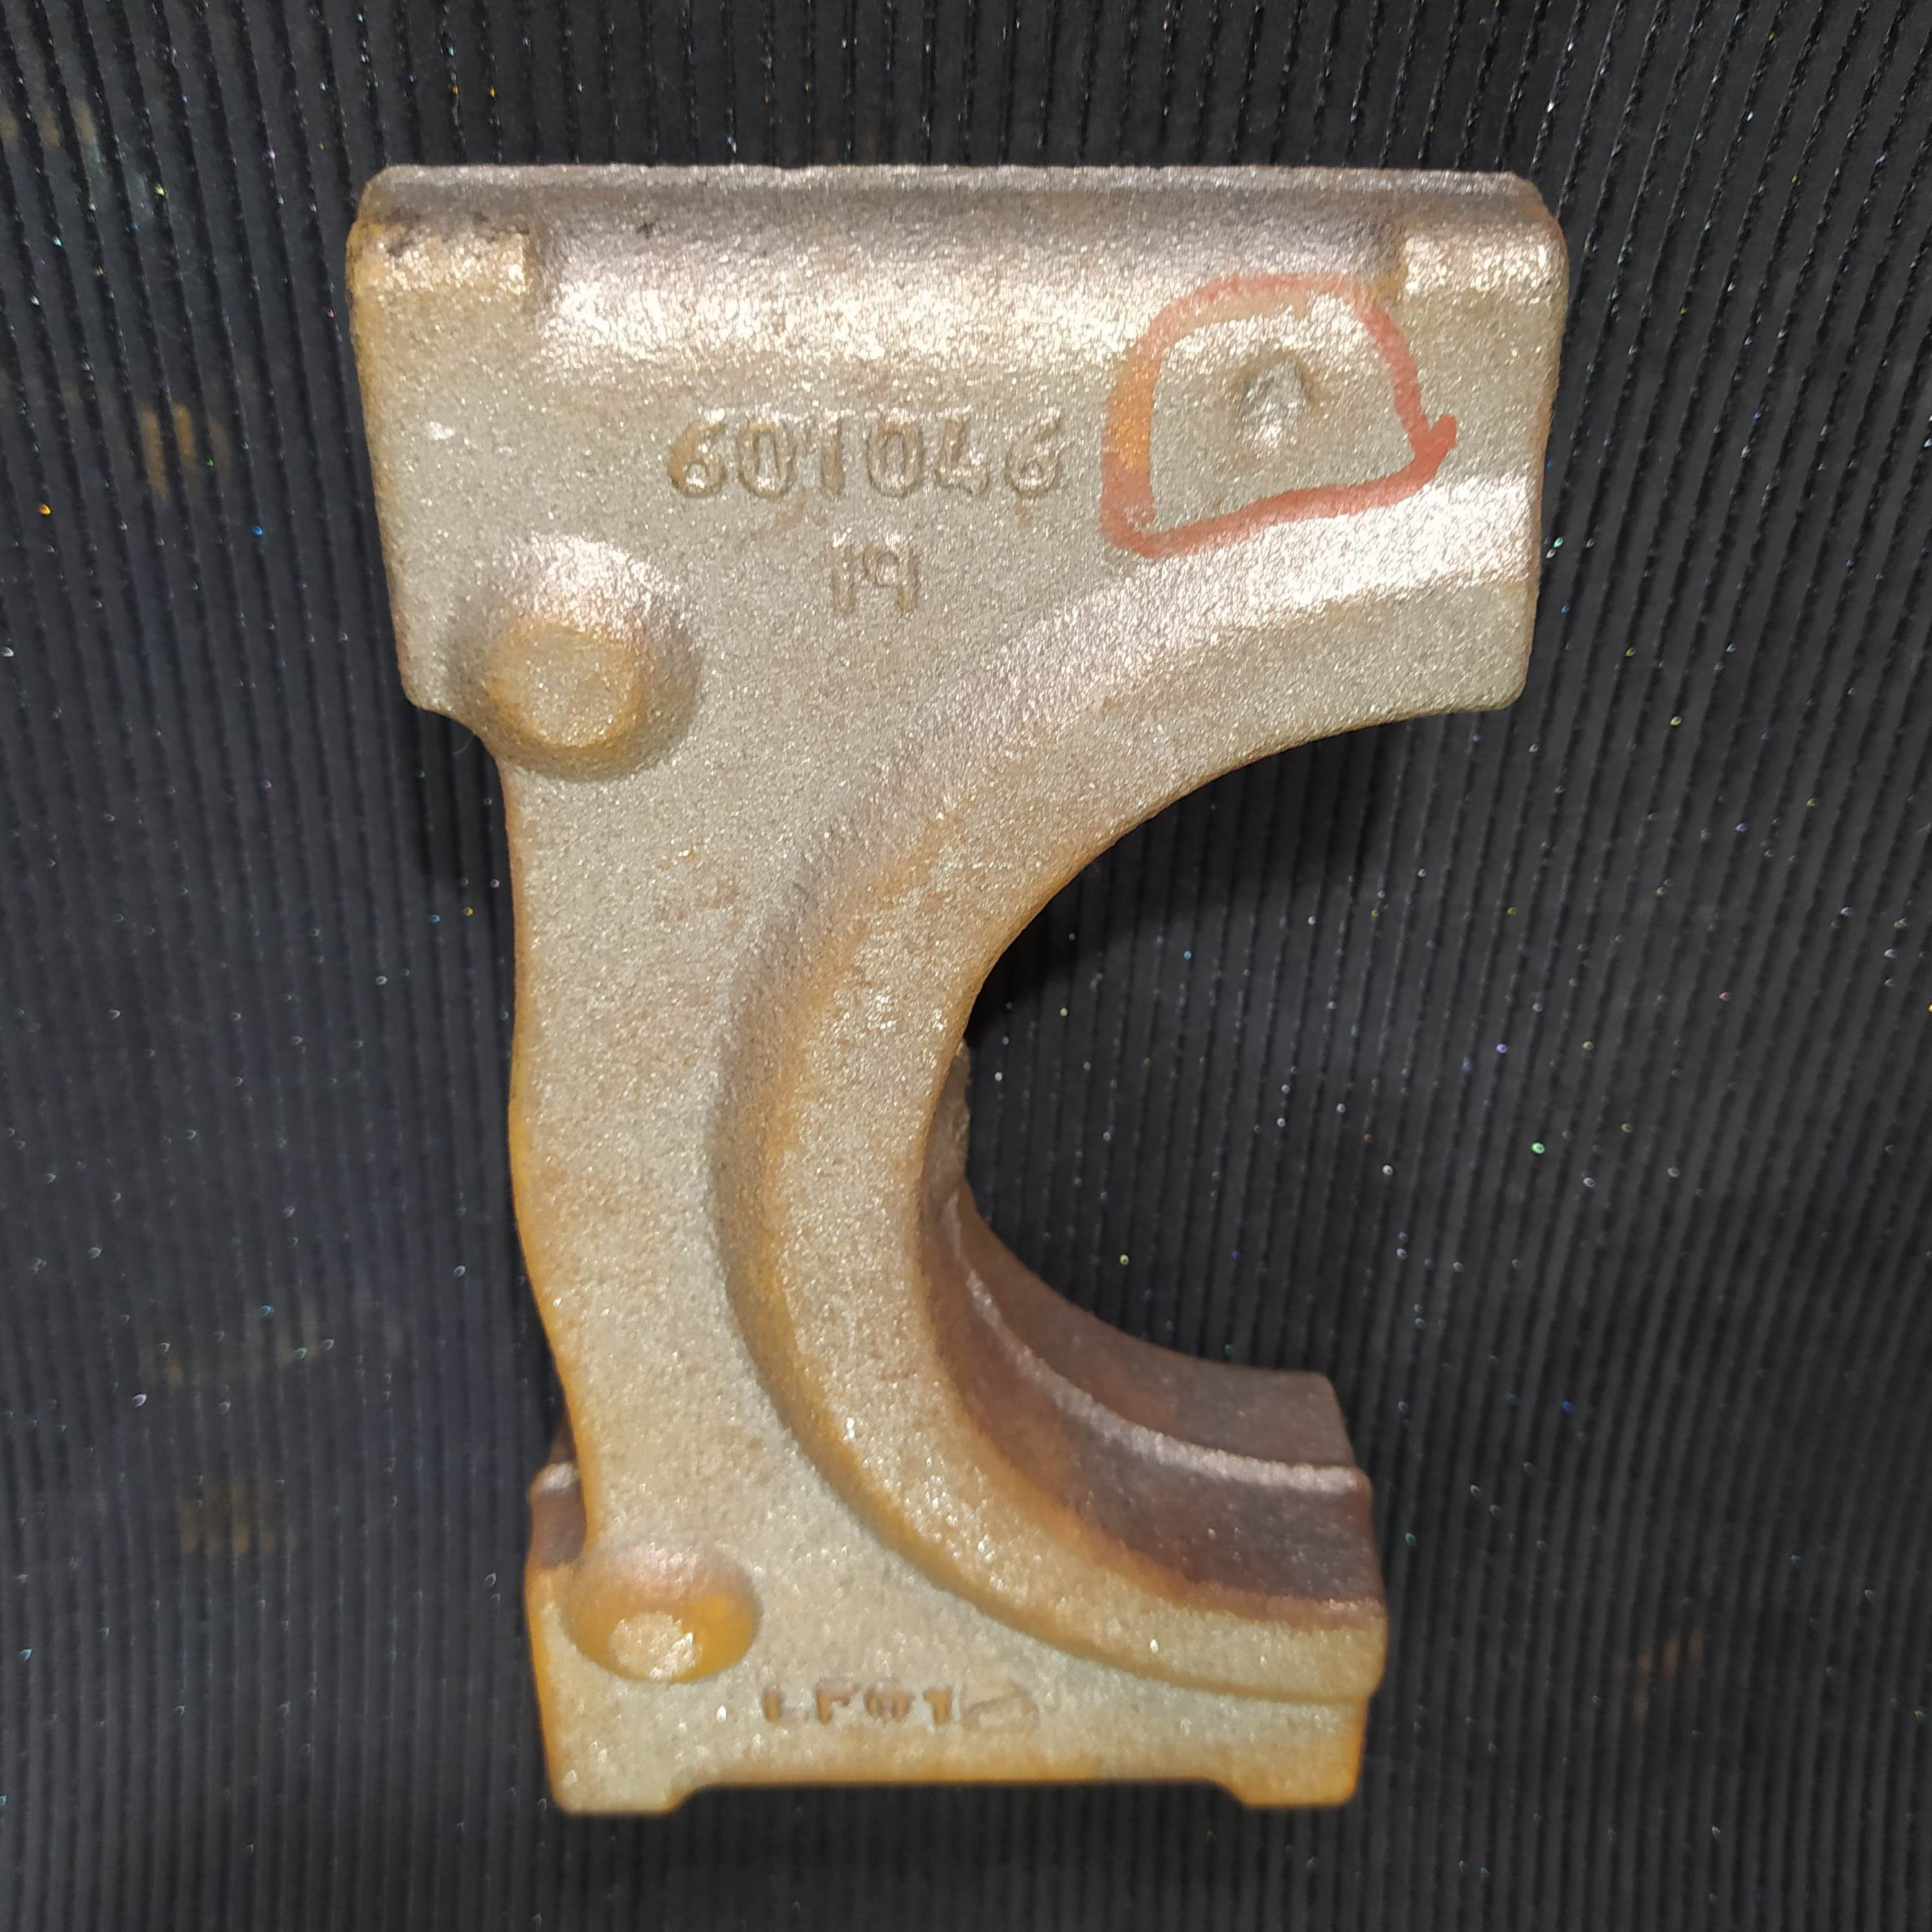buraco: (1221, 336, 1323, 448)
